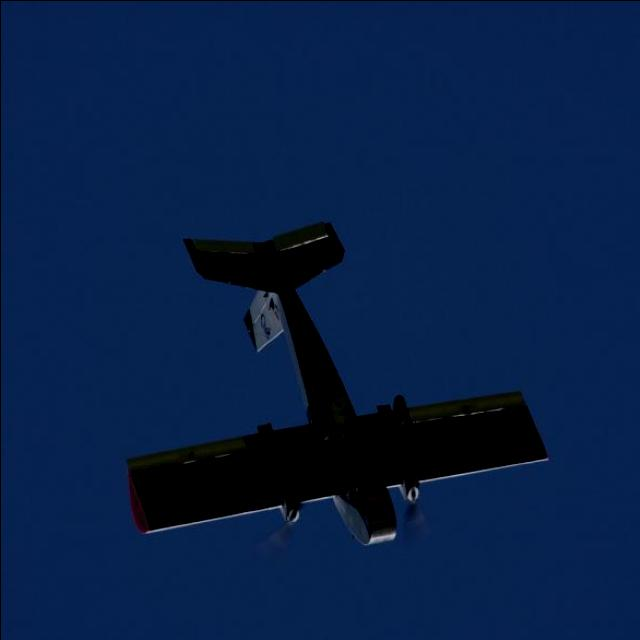plane: (122, 220, 548, 550)
